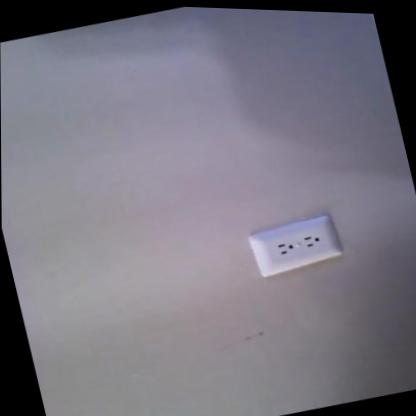OUTLET: (247, 210, 343, 282)
